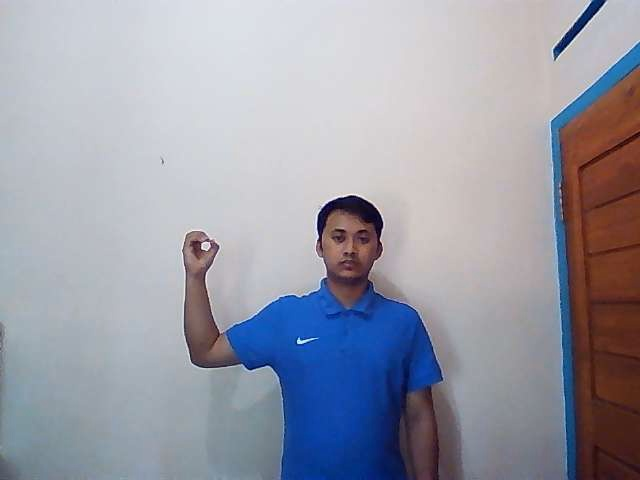O: (178, 230, 222, 276)
